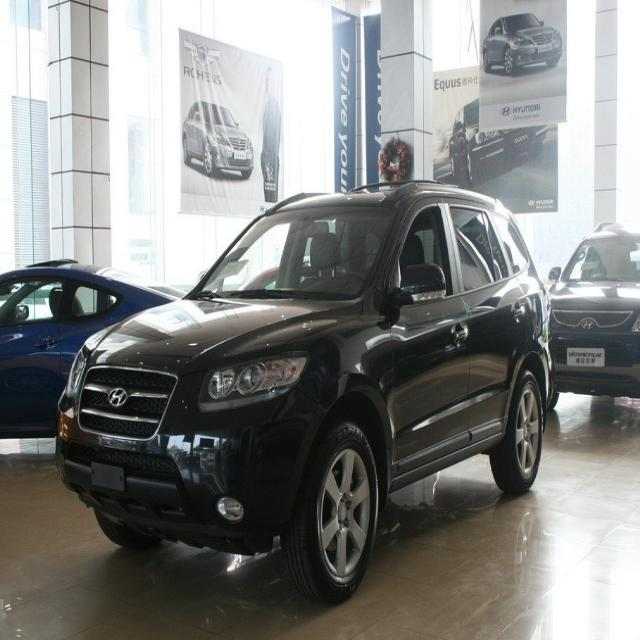door: (444, 198, 530, 436)
front_bumper: (54, 388, 314, 557)
front_glass: (193, 202, 402, 304)
front_left_side_door: (386, 193, 475, 490)
front_left_side_light: (198, 349, 308, 410)
front_left_side_mirror: (391, 264, 446, 310)
front_right_side_light: (66, 345, 87, 398)
wheel: (280, 420, 381, 601), (487, 368, 544, 492)
